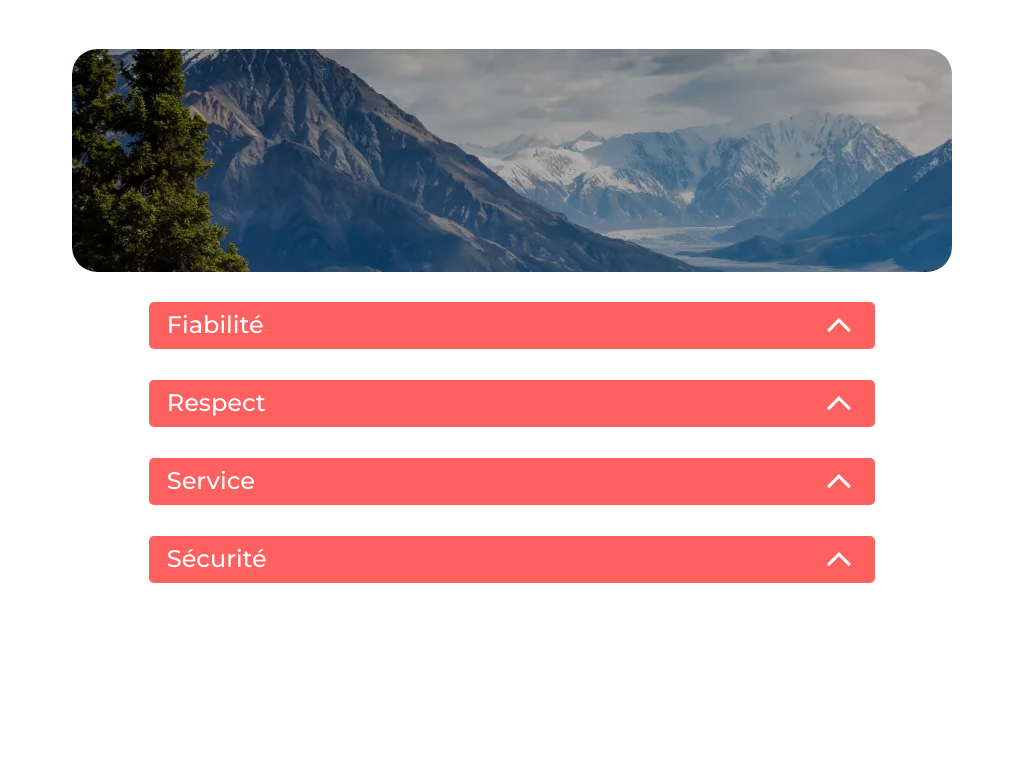
it: About and accordion › Should render without crash
The image size is (1024, 768).
Check: the text "Les annonces postées sur Kasa garantissent une fiabilité totale" is not shown
Click the element with test id "header" showing "Fiabilité" at (512, 326), box [149,302,875,349]
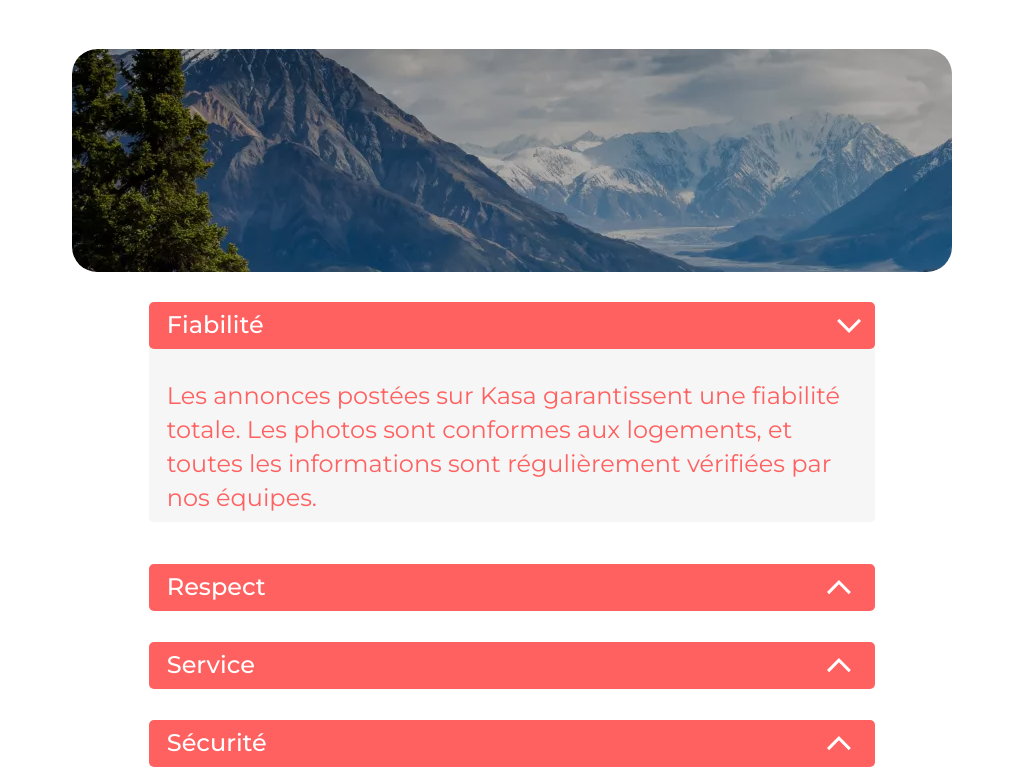
Check: the text "Les annonces postées sur Kasa garantissent une fiabilité totale" is shown, box [167,381,840,512]
